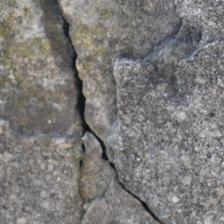Crack: (34, 0, 128, 101), (28, 16, 139, 81)
